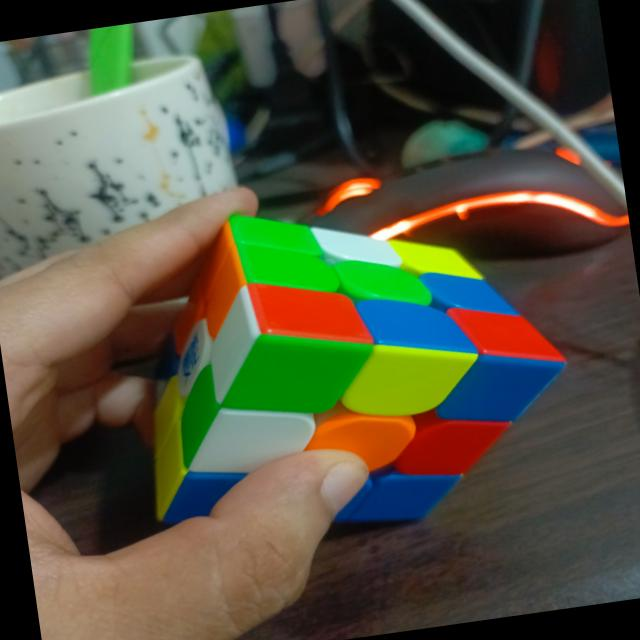rubik: (114, 170, 586, 558)
